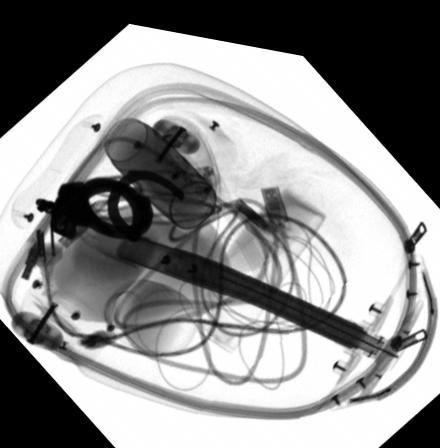HandCuffs: (31, 162, 185, 239)
